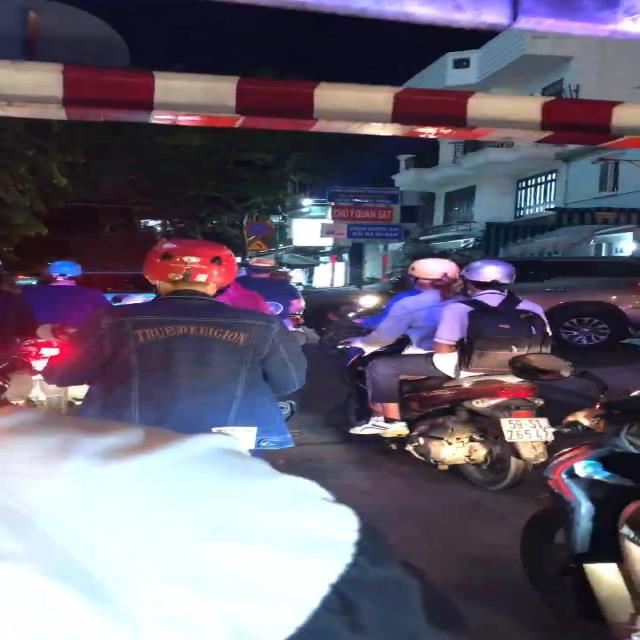Bien bao cho ngoat nguy hiem: (243, 238, 274, 252)
